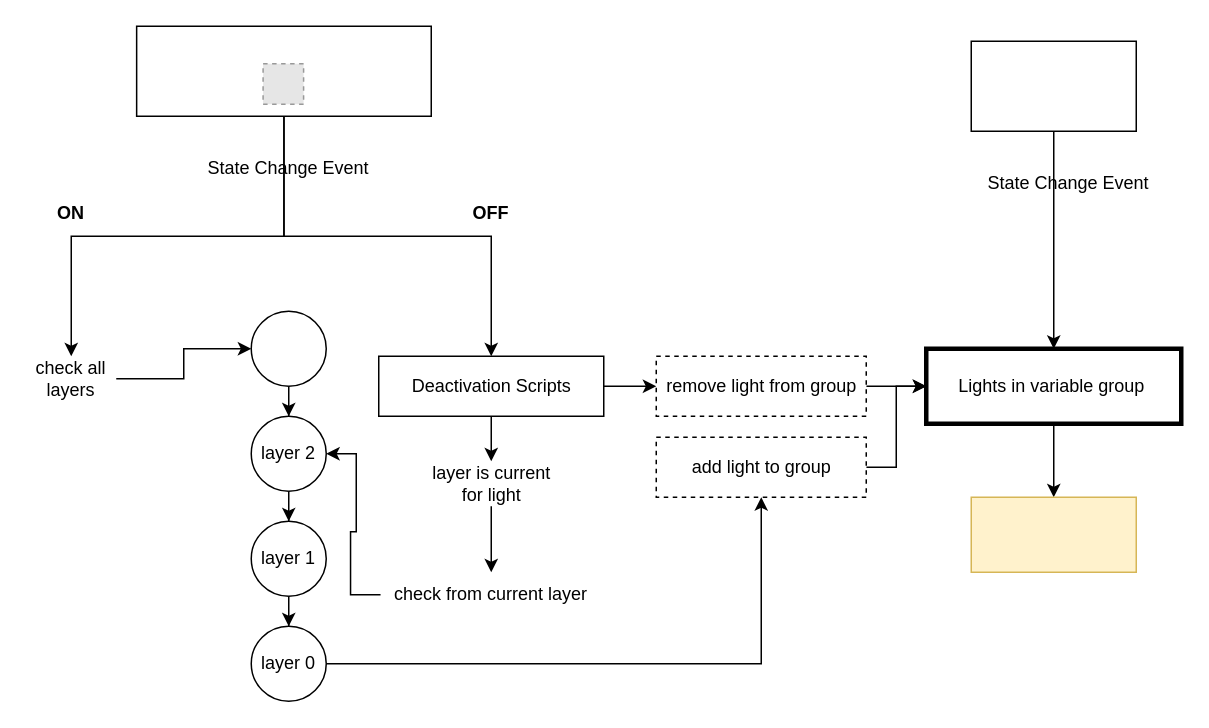
The diagram is 1209 pixels wide and 728 high, and some of its shapes have lost their labels. Grey dashed boxes stand in for pictures. Here are the shapes that lost their labels. From the top down, the box of each, then its label:
(135, 25, 431, 116): Layer <REF> Input Boolean
(970, 40, 1136, 131): Variable
(250, 310, 326, 386): layer 3
(970, 496, 1136, 572): update lights
